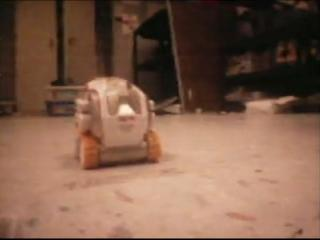cozmo: (72, 76, 162, 169)
